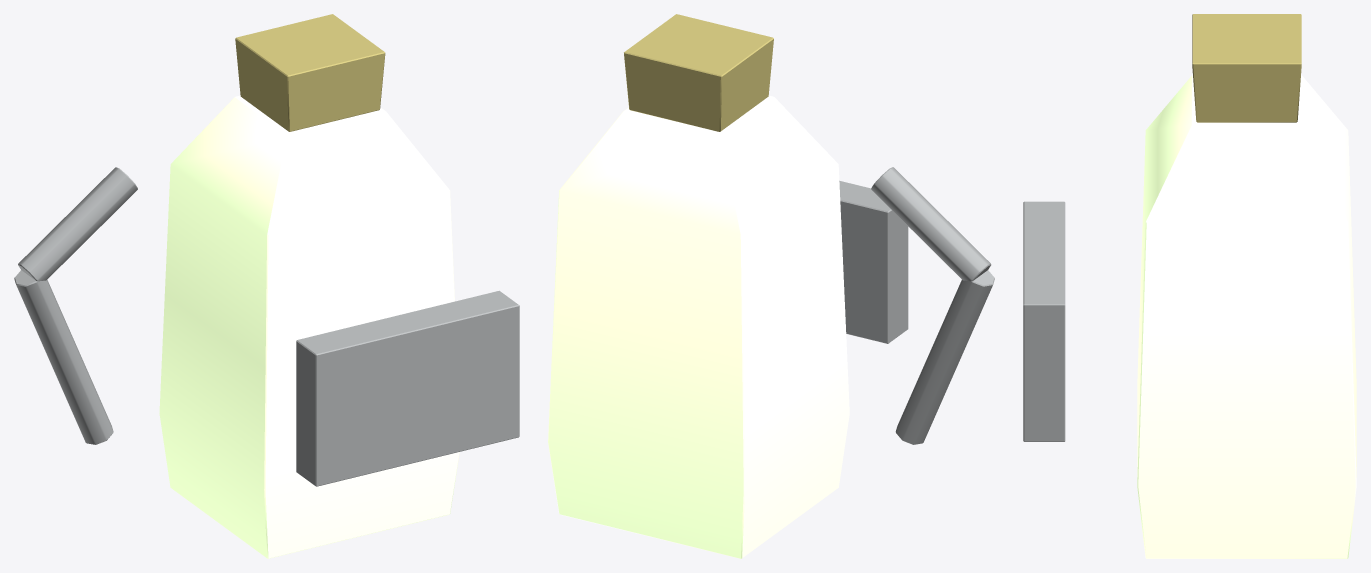
File: IT_chlorine.fbx
3 views of the same model, side by side, from view 1: azimuth 30°, elevation 25°; view 2: azimuth 150°, elevation 25°; view 3: azimuth 270°, elevation 25° (orthographic). The views are drawn at different scales.
Parts seen in each view (by area): view 1: IT_chlorine; view 2: IT_chlorine; view 3: IT_chlorine.
Boxes of the visible parts, x1,y1,x2,y2 form: IT_chlorine: (14, 14, 519, 558); IT_chlorine: (548, 14, 994, 558); IT_chlorine: (1023, 14, 1356, 558).
Bounding box in the file's own units: 0.5626 × 0.62 × 0.395.
